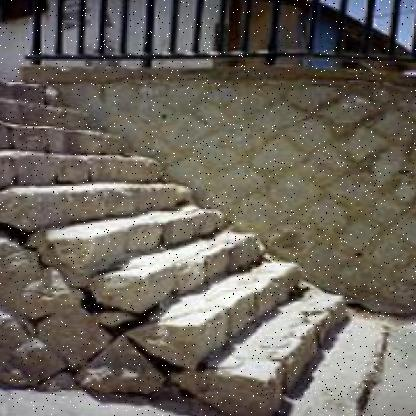stair_up: (181, 184, 379, 390)
